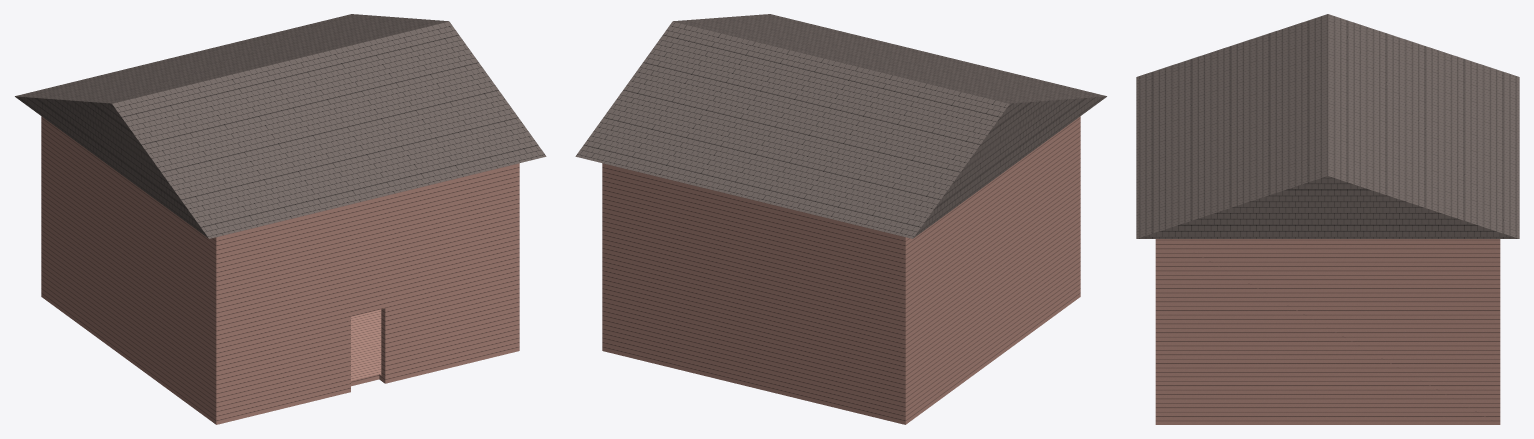
File: farmhouse_foursquare.glb
The picture shows the model from 3 angles, left to right: view 1: azimuth 30°, elevation 25°; view 2: azimuth 150°, elevation 25°; view 3: azimuth 270°, elevation 25°; orthographic projection.
Parts seen in each view (by area): view 1: farmhouse_foursquare-col; view 2: farmhouse_foursquare-col; view 3: farmhouse_foursquare-col.
Part boxes in pixels (box(x1,y1,x2,y2)): farmhouse_foursquare-col: box(15, 14, 546, 424); farmhouse_foursquare-col: box(575, 14, 1106, 424); farmhouse_foursquare-col: box(1136, 14, 1519, 424).
Bounding box in the file's own units: 9.84 × 7.29 × 9.84.
Materials: 2 (2 with a texture image).
